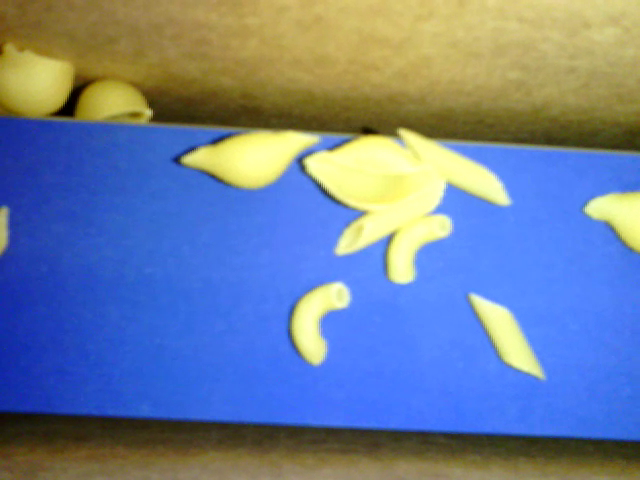elbow: (289, 282, 350, 364), (385, 215, 451, 284)
penne: (400, 129, 511, 205), (469, 293, 544, 377), (335, 210, 426, 256)
shell: (302, 134, 447, 214), (179, 130, 318, 190), (1, 45, 74, 115), (583, 190, 639, 253), (75, 79, 154, 122)
